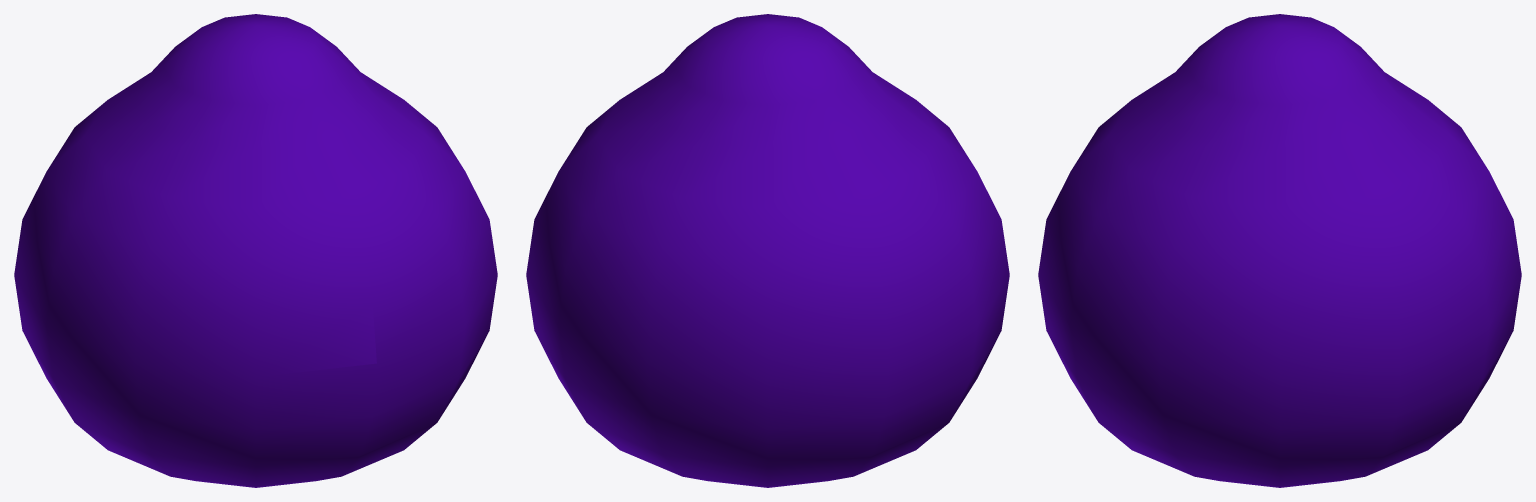
File: fruit.fbx
The picture shows the model from 3 angles, left to right: view 1: azimuth 30°, elevation 25°; view 2: azimuth 150°, elevation 25°; view 3: azimuth 270°, elevation 25°; orthographic projection.
Parts seen in each view (by area): view 1: pSphere1; view 2: pSphere1; view 3: pSphere1.
Boxes of the visible parts, x1,y1,x2,y2 form: pSphere1: [14, 14, 497, 487]; pSphere1: [526, 14, 1009, 487]; pSphere1: [1038, 14, 1521, 487].
Size of the model in its own units: 5.67 by 5.52 by 5.67.
